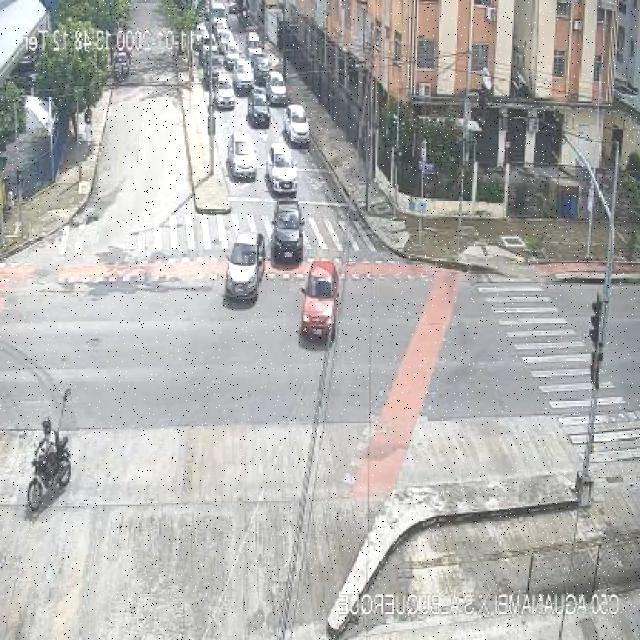Car: (299, 261, 340, 343), (224, 232, 266, 302), (270, 202, 305, 263), (266, 142, 298, 194), (226, 130, 258, 180), (282, 104, 310, 144), (247, 92, 271, 127), (212, 75, 236, 109), (265, 73, 288, 107), (233, 61, 255, 94), (200, 48, 221, 74), (206, 60, 226, 87), (252, 52, 270, 80), (195, 23, 211, 50), (216, 29, 233, 54), (223, 49, 240, 72), (251, 84, 268, 106), (246, 44, 264, 64), (212, 15, 228, 34), (246, 31, 261, 49)
